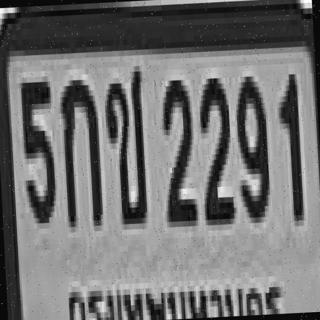A01: (59, 74, 102, 222)
A10: (103, 60, 148, 220)
N01: (275, 69, 302, 216)
N02: (158, 72, 195, 220), (196, 72, 232, 220)
N05: (18, 76, 55, 219)
N09: (232, 70, 269, 218)
